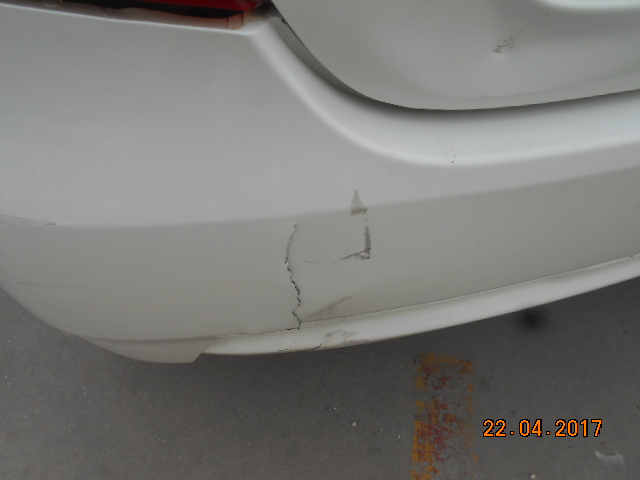Scratch_or_spot: (346, 196, 376, 285)
Tear: (280, 216, 315, 327)
